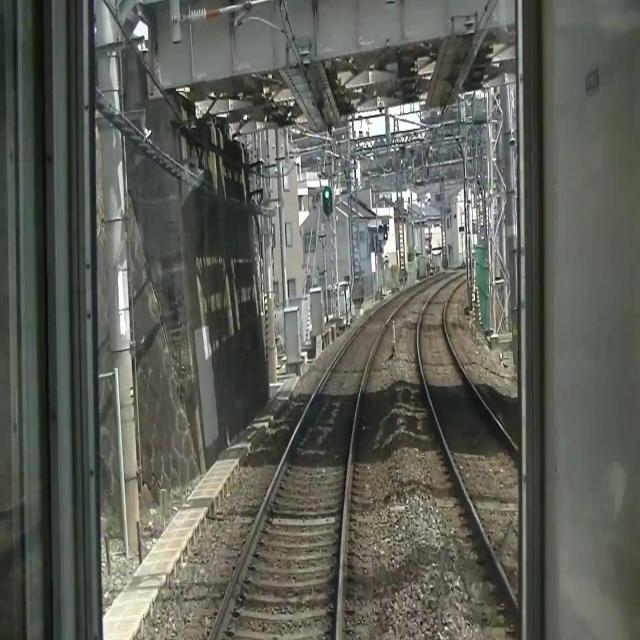rail-track: (211, 272, 450, 639), (419, 273, 516, 592)
